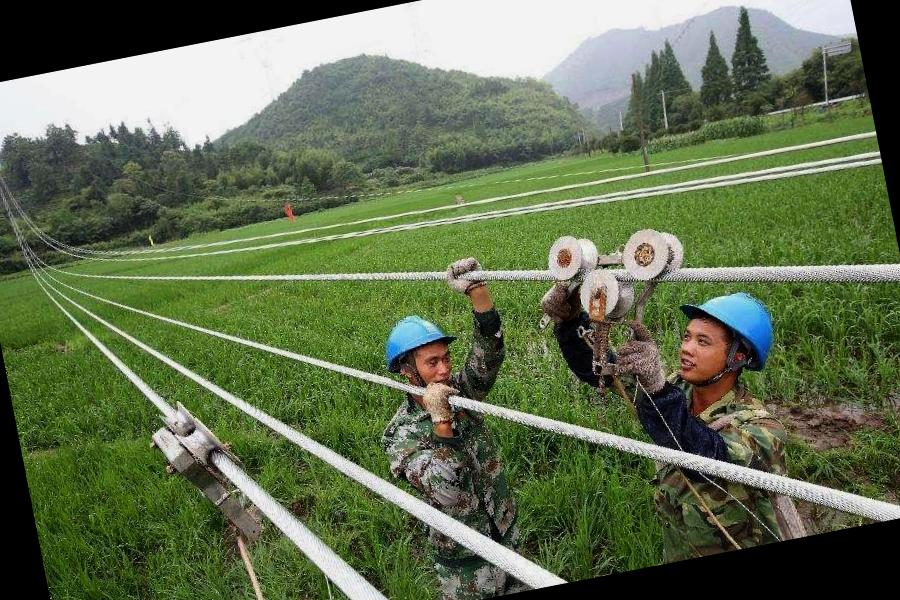helmet: (688, 282, 786, 380), (374, 311, 461, 382)
person: (613, 263, 824, 564), (348, 293, 549, 600)
